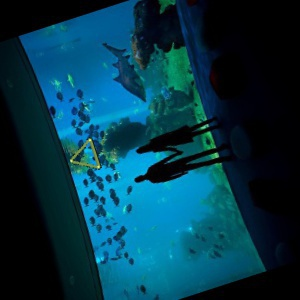triangle: (69, 135, 103, 171)
